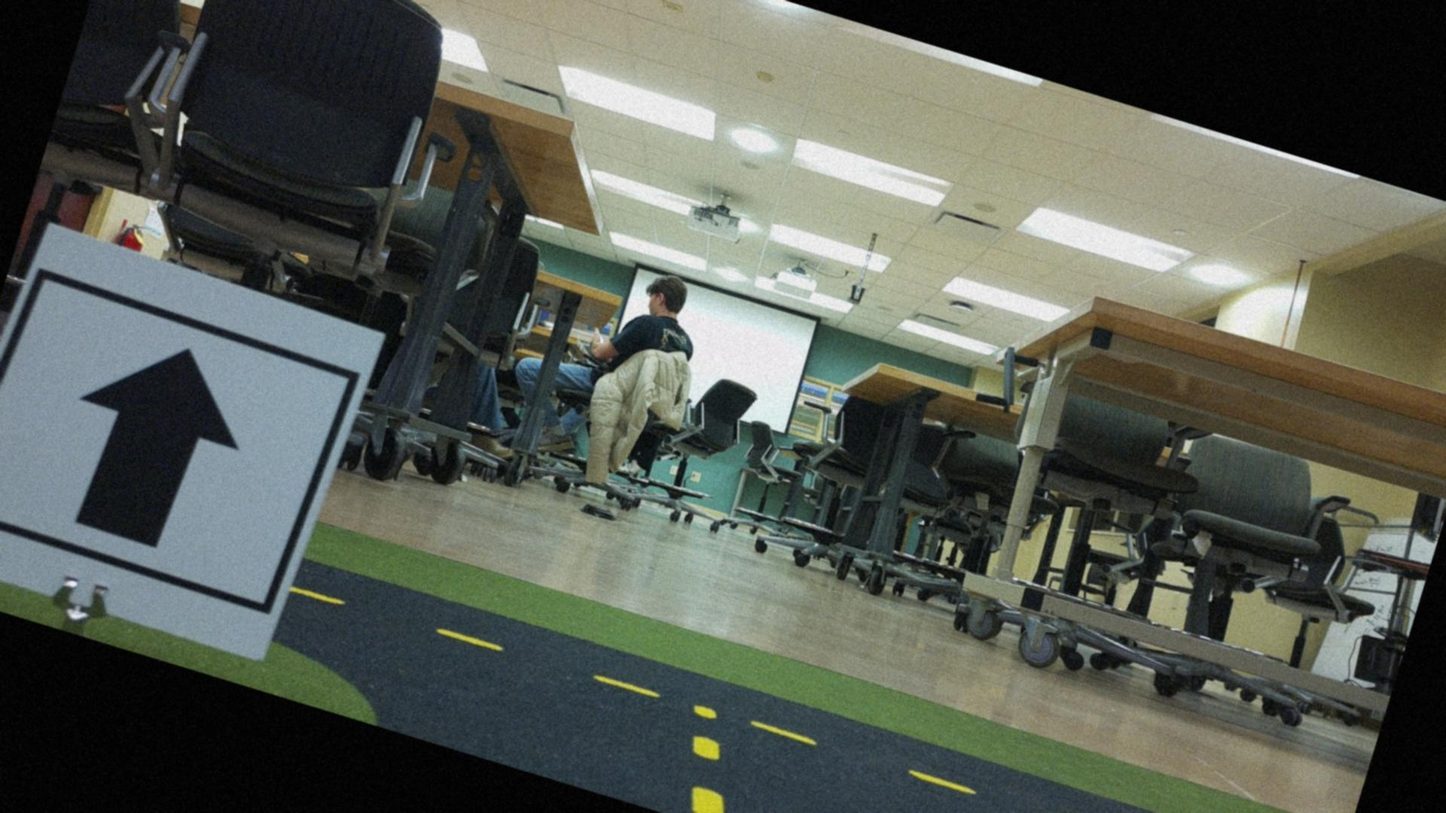gostraight: (0, 215, 378, 669)
yellowline: (293, 579, 1323, 812), (667, 700, 754, 812)
